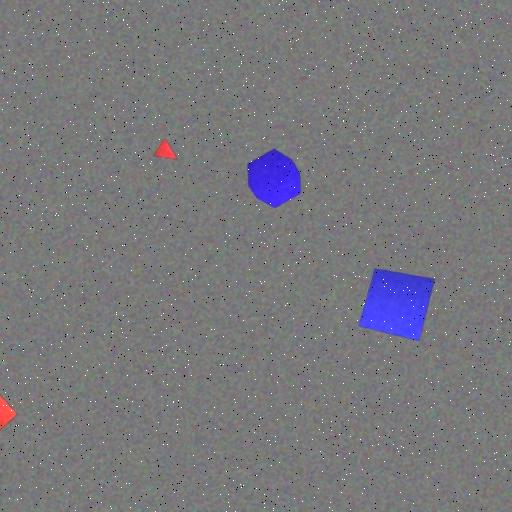BLUE_SQUARE: (358, 268, 436, 342)
RED_SQUARE: (0, 390, 18, 435)
